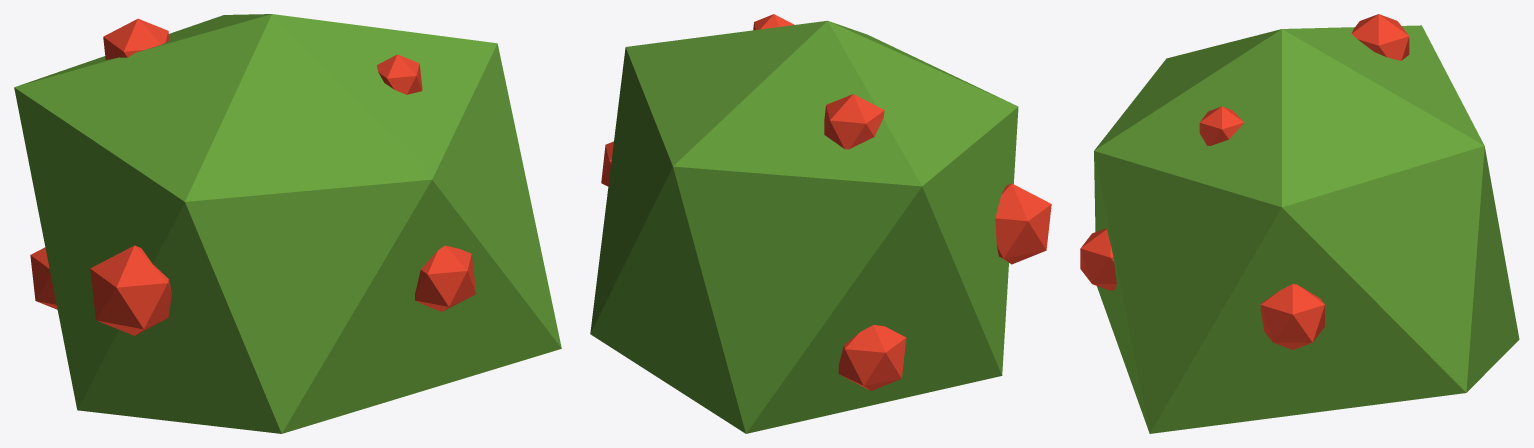
File: Bush_02.fbx
The picture shows the model from 3 angles, left to right: view 1: azimuth 30°, elevation 25°; view 2: azimuth 150°, elevation 25°; view 3: azimuth 270°, elevation 25°; orthographic projection. The views are drawn at different scales.
Visible parts, largest first — view 1: Bush_02; view 2: Bush_02; view 3: Bush_02.
Boxes of the visible parts, box(x1,y1,x2,y2) form: Bush_02: box(14, 14, 561, 433); Bush_02: box(590, 14, 1051, 433); Bush_02: box(1080, 14, 1519, 433).
Bounding box in the file's own units: 202 × 167 × 185.
